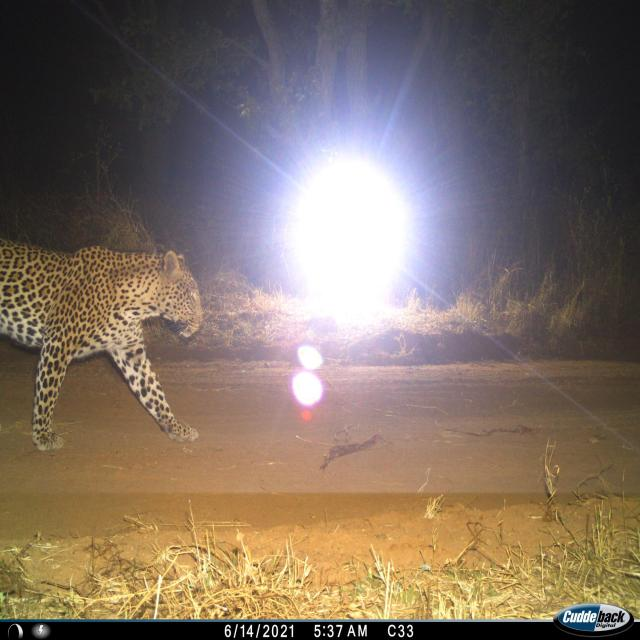Leopard: (0, 222, 211, 470)
